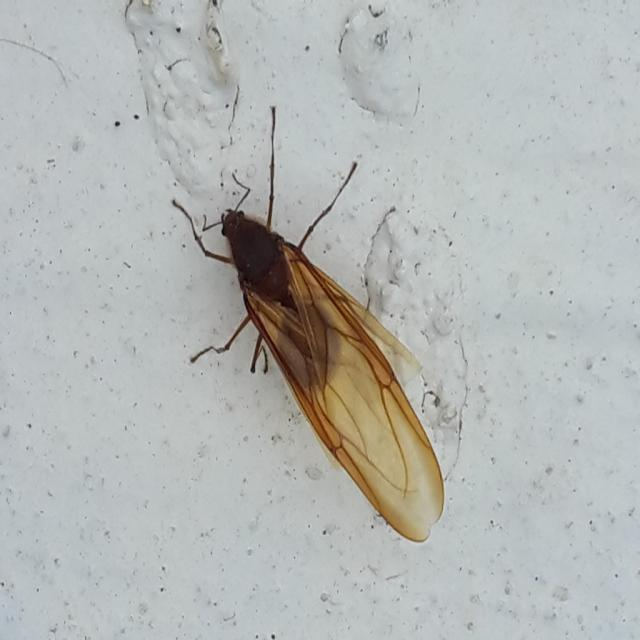Alive-Male-Alate: (171, 105, 446, 544)
